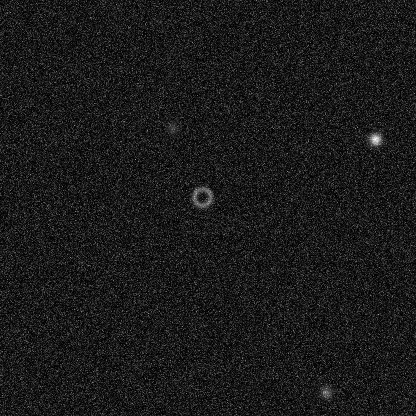Ring: (190, 185, 214, 209)
Spot: (317, 384, 333, 400), (367, 131, 383, 147), (164, 120, 180, 136)
